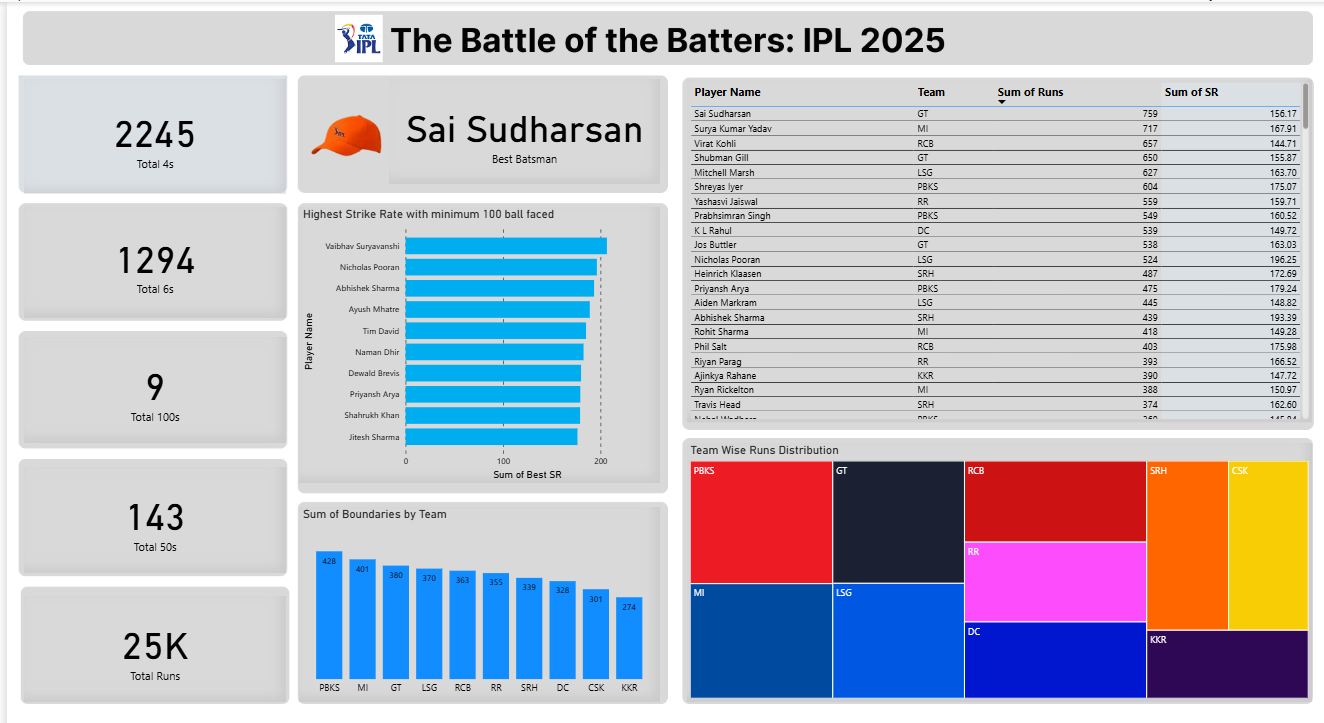

The dashboard page shown, as its layout file describes it:
{"tool":"powerbi","page":{"name":"Page 1","canvas":[1920,1080],"ordinal":0},"visuals":[{"type":"treemap","title":"Team Wise Runs Distribution","fields":{"Group":["IPL2025Batters.Team"],"Values":["Sum(IPL2025Batters.Runs)"]},"box":[984.7,638.4,904.6,374.4],"z":0},{"type":"tableEx","title":"Individual Player Performance","fields":{"Values":["IPL2025Batters.Player Name","IPL2025Batters.Team","Sum(IPL2025Batters.Runs)","Sum(IPL2025Batters.SR)"]},"box":[984.5,112.2,904.8,495.8],"z":1000},{"type":"card","fields":{"Values":["Sum(IPL2025Batters.4s)"]},"box":[26,112.5,378.7,166.6],"z":2000},{"type":"card","fields":{"Values":["Min(IPL2025Batters.Player Name)"]},"box":[554,112.5,391.7,151.5],"z":3000},{"type":"clusteredBarChart","title":"Highest Strike Rate with minimum 100 ball faced","fields":{"Category":["IPL2025Batters.Player Name"],"Y":["Sum(IPL2025Batters.Best SR)"]},"box":[424.2,296.5,521.6,400.4],"z":4000},{"type":"card","fields":{"Values":["Sum(IPL2025Batters.100s)"]},"box":[26,484.8,378.7,153.7],"z":5000},{"type":"card","fields":{"Values":["Sum(IPL2025Batters.6s)"]},"box":[26,296.5,378.7,160.1],"z":6000},{"type":"card","fields":{"Values":["Sum(IPL2025Batters.50s)"]},"box":[26,673,378.7,153.7],"z":7000},{"type":"card","fields":{"Values":["Sum(IPL2025Batters.Runs)"]},"box":[26,859.2,378.7,153.7],"z":8000},{"type":"clusteredColumnChart","fields":{"Category":["IPL2025Batters.Team"],"Y":["Sum(IPL2025Batters.Boundaries Hierarchy.Boundaries)"]},"box":[424.2,731.5,521.6,281.3],"z":9000}]}

Visuals, with their boxes on the page's 1920x1080 design canvas (x1, y1, x2, y2). These are canvas units, not pixel positions in the 1324x723 screenshot, which may show the page scaled, cropped or inside an application window:
"Team Wise Runs Distribution" treemap: pyautogui.locateOnScreen(985, 638, 1889, 1013)
"Individual Player Performance" tableEx: pyautogui.locateOnScreen(984, 112, 1889, 608)
card - Sum(IPL2025Batters.4s): pyautogui.locateOnScreen(26, 112, 405, 279)
card - Min(IPL2025Batters.Player Name): pyautogui.locateOnScreen(554, 112, 946, 264)
"Highest Strike Rate with minimum 100 ball faced" clusteredBarChart: pyautogui.locateOnScreen(424, 296, 946, 697)
card - Sum(IPL2025Batters.100s): pyautogui.locateOnScreen(26, 485, 405, 638)
card - Sum(IPL2025Batters.6s): pyautogui.locateOnScreen(26, 296, 405, 457)
card - Sum(IPL2025Batters.50s): pyautogui.locateOnScreen(26, 673, 405, 827)
card - Sum(IPL2025Batters.Runs): pyautogui.locateOnScreen(26, 859, 405, 1013)
clusteredColumnChart - IPL2025Batters.Team x Sum(IPL2025Batters.Boundaries Hierarchy.Boundaries): pyautogui.locateOnScreen(424, 732, 946, 1013)
